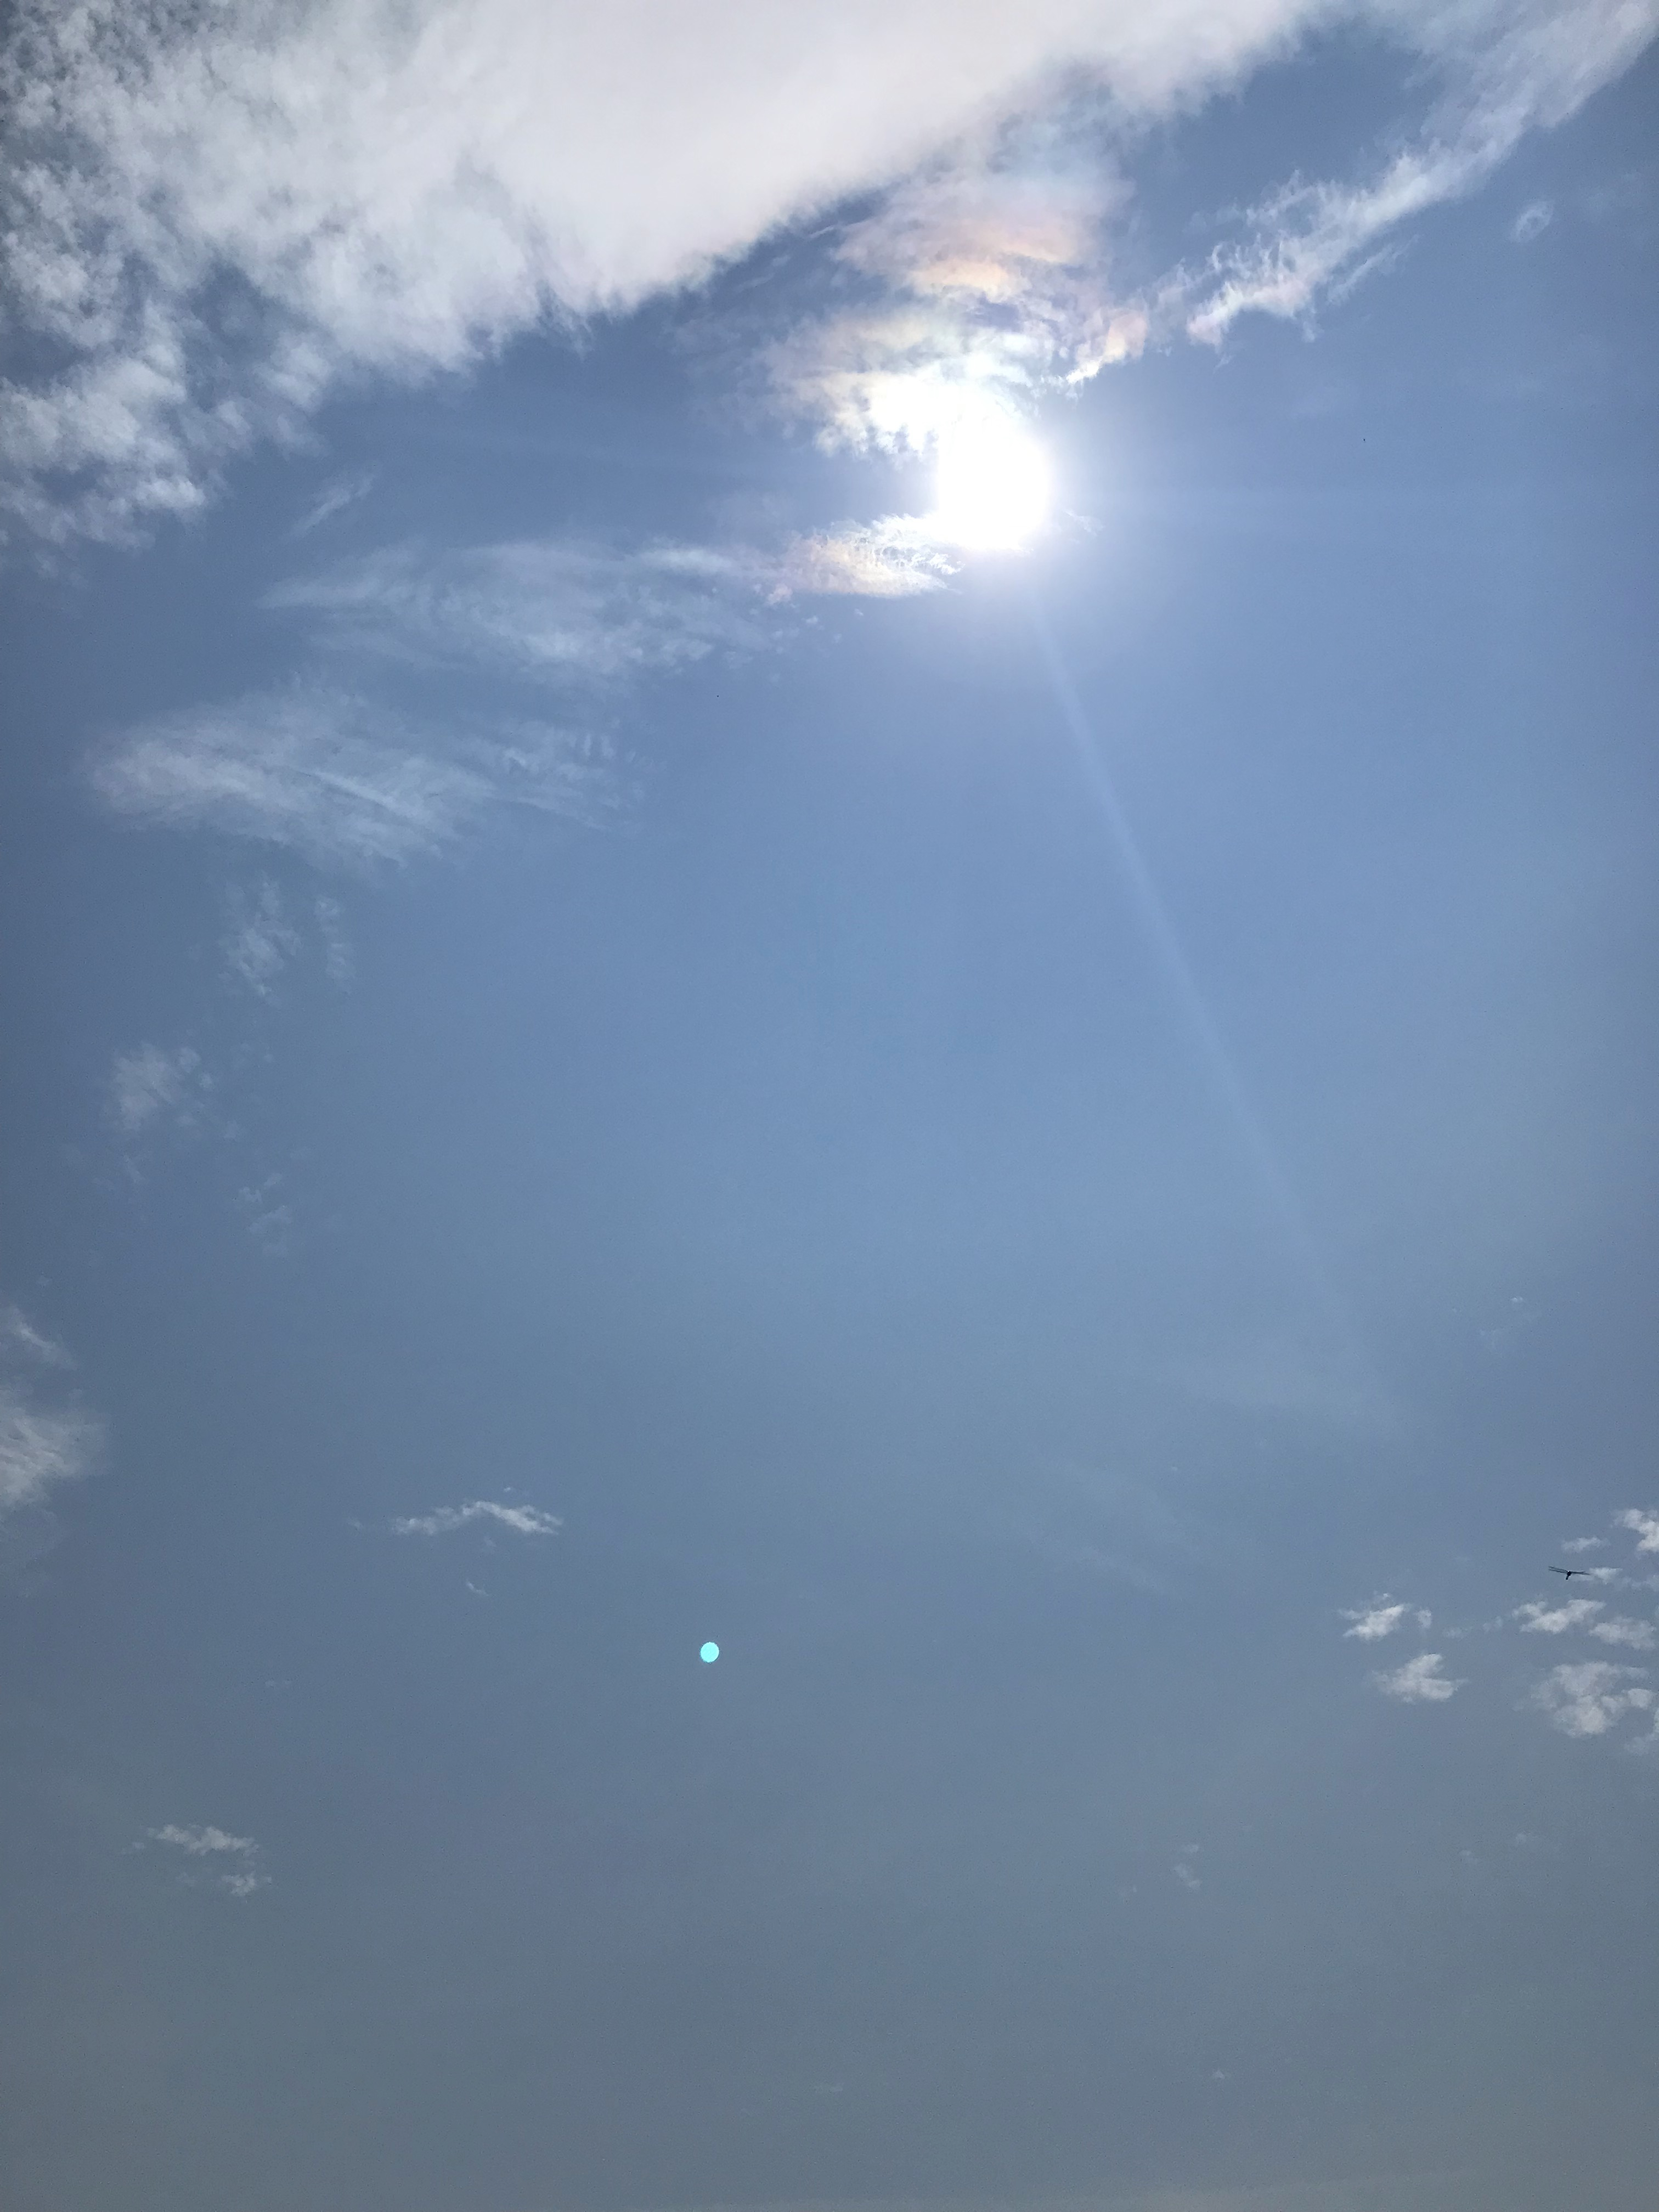flare: (697, 1639, 723, 1667)
